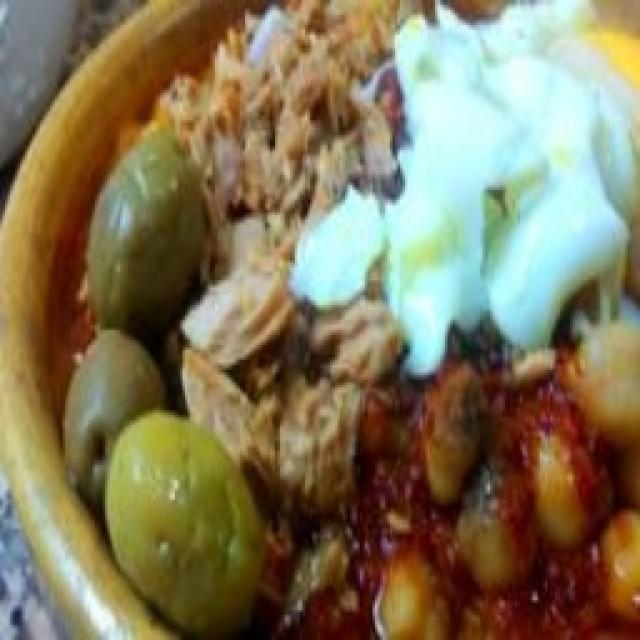Lablabi: (2, 0, 640, 640)
